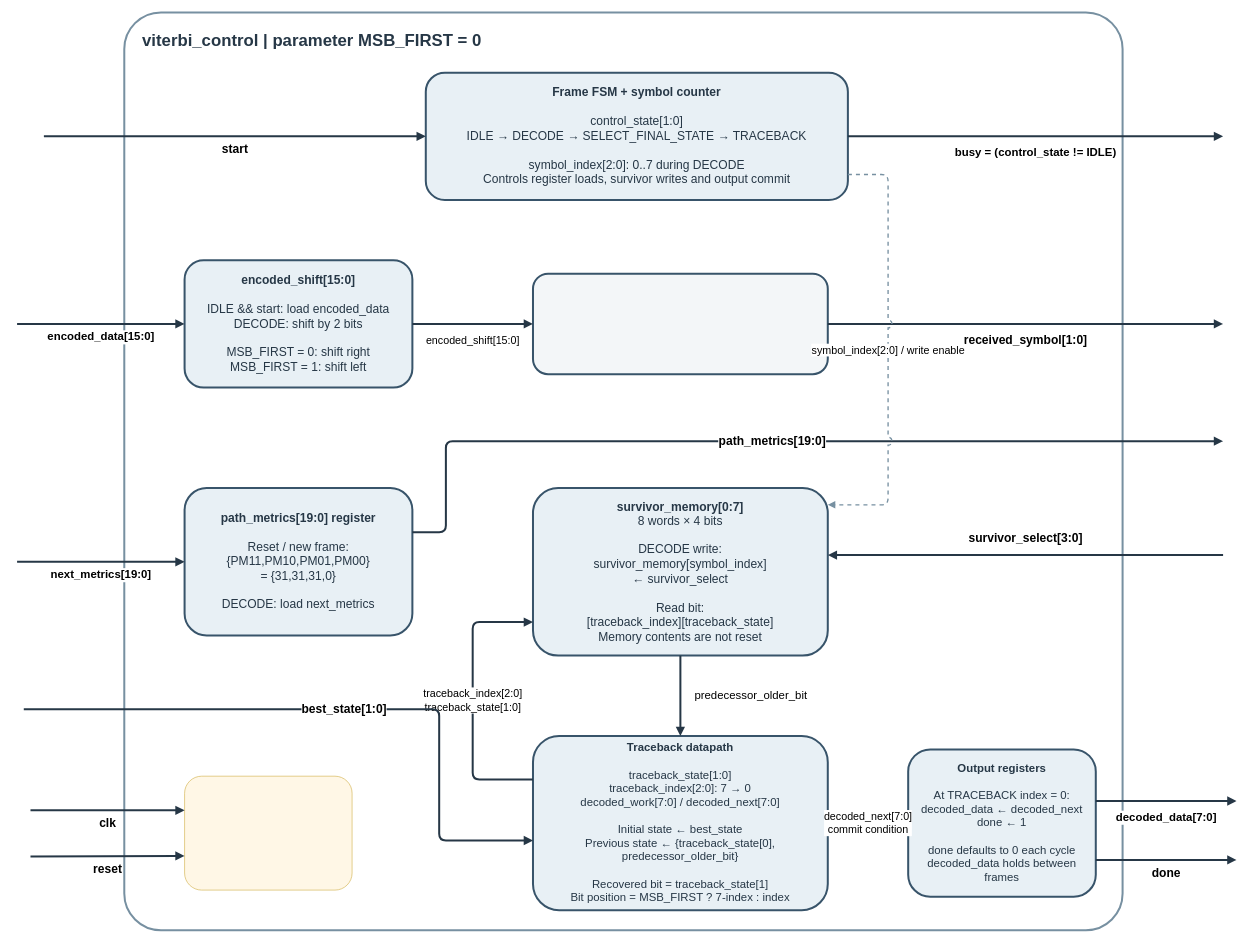
Image size: 1254x943. Some labels were removed from this diagram. The centre of each missing label's shape, as x and y in pixels:
Clock / reset: (268,833)
Received-symbol selection MSB_FIRST ? encoded_shift[15:14] : encoded_shift[1:0]: (680,323)
